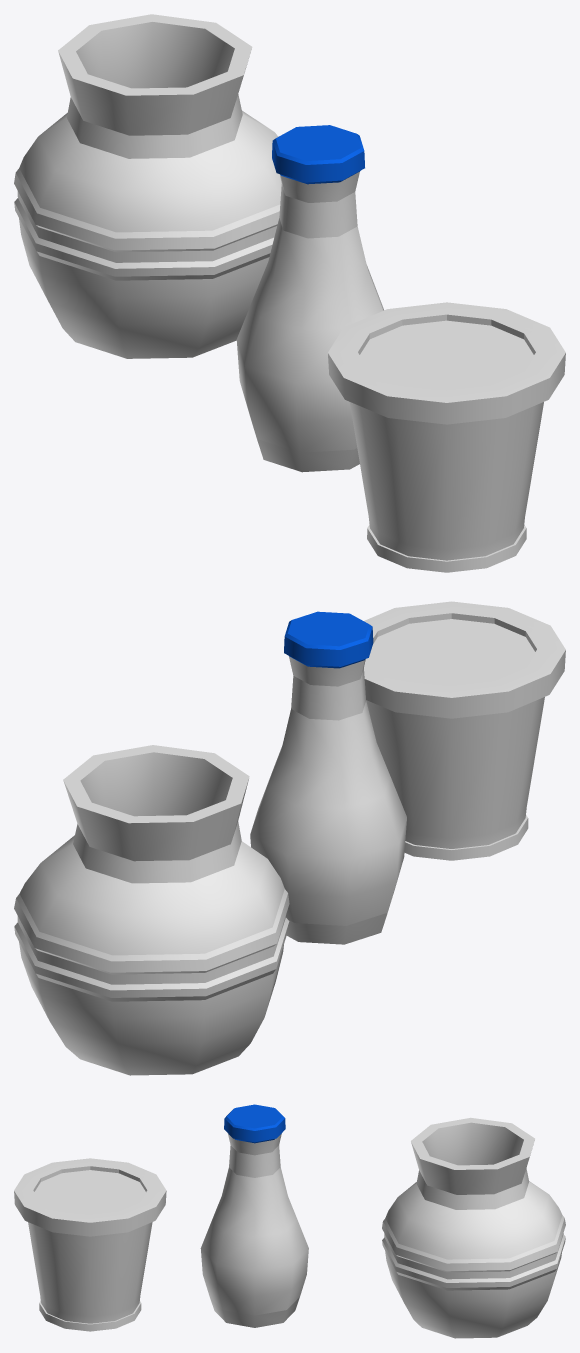
Rendered from Props-1.fbx.
3 views of the same model, one above another, from view 1: azimuth 30°, elevation 25°; view 2: azimuth 150°, elevation 25°; view 3: azimuth 270°, elevation 25° (orthographic). The views are drawn at different scales.
Parts seen in each view (by area): view 1: pCylinder1, pCylinder3, pCylinder2; view 2: pCylinder1, pCylinder3, pCylinder2; view 3: pCylinder1, pCylinder3, pCylinder2.
Part boxes in pixels (x1,y1,x2,y2): pCylinder1: [14, 14, 281, 358]; pCylinder3: [328, 302, 565, 572]; pCylinder2: [236, 125, 383, 472]; pCylinder1: [14, 745, 289, 1075]; pCylinder3: [364, 601, 565, 860]; pCylinder2: [250, 611, 406, 944]; pCylinder1: [382, 1117, 565, 1338]; pCylinder3: [14, 1158, 166, 1331]; pCylinder2: [200, 1104, 308, 1327].
Size of the model in its own units: 2.54 by 2.99 by 7.67.
